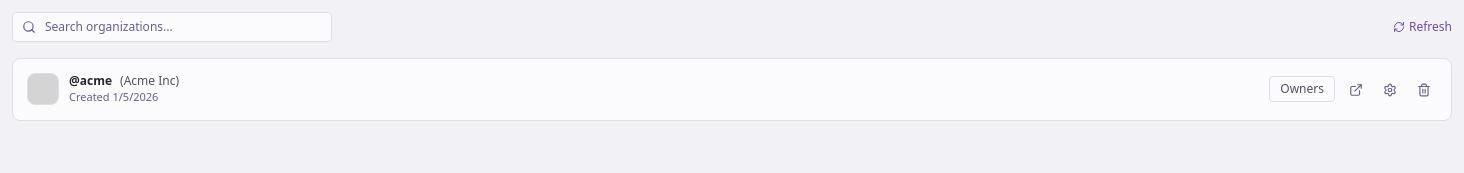
Test: OrganizationsPanel › reads the owner list only when a row is opened
This screenshot has width=1464, height=173.
expect the text "@acme" is shown: met, box [69, 73, 112, 89]
Click the button "Owners" at (1302, 89), box [1269, 76, 1335, 102]
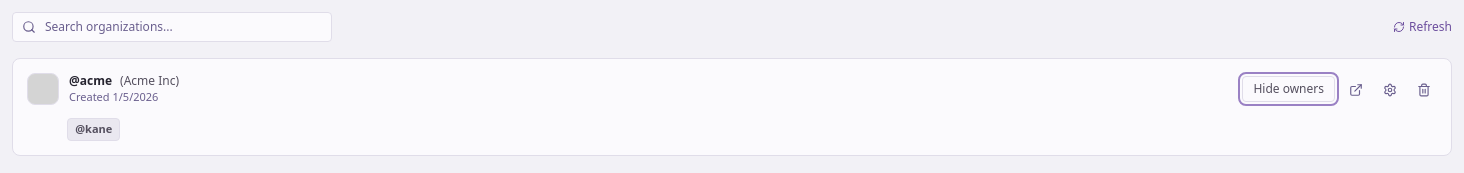
expect the list item "@kane" is shown: met, box [67, 118, 120, 141]
